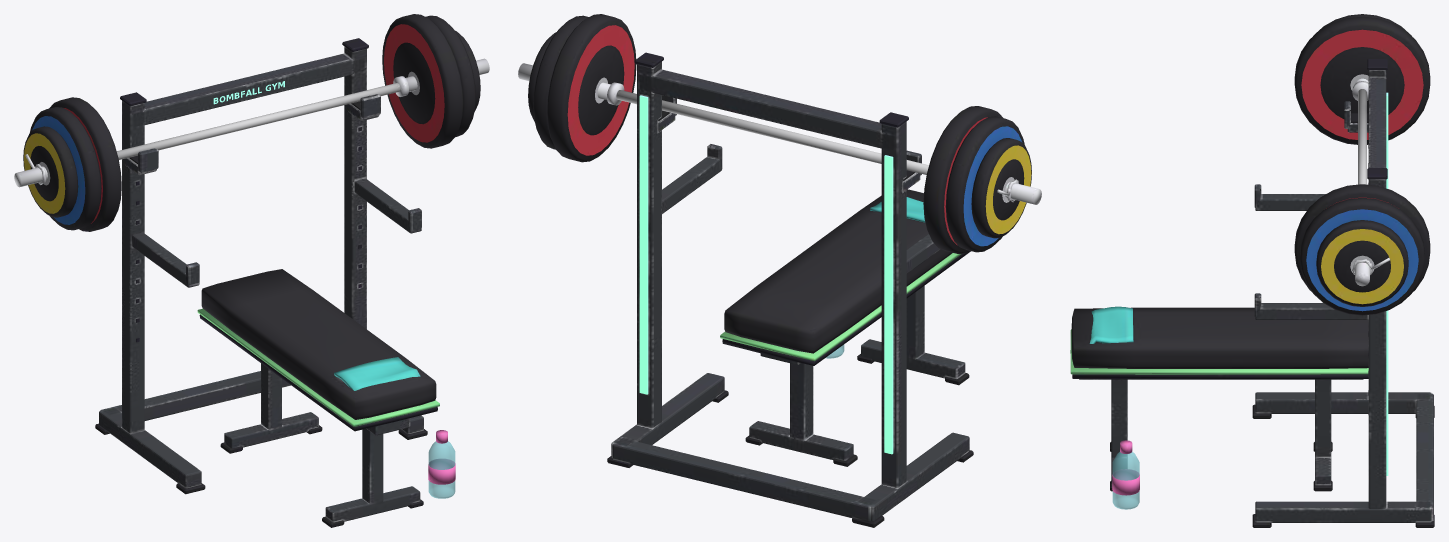
File: bench_press.glb
3 views of the same model, side by side, from view 1: azimuth 30°, elevation 25°; view 2: azimuth 150°, elevation 25°; view 3: azimuth 270°, elevation 25° (orthographic). The views are drawn at different scales.
Visible parts, largest first — view 1: body; view 2: body; view 3: body.
Boxes of the visible parts, bbox=[...] form: body: bbox=[14, 14, 489, 527]; body: bbox=[518, 14, 1041, 527]; body: bbox=[1070, 14, 1434, 527].
Bounding box in the file's own units: 4 × 2.97 × 2.68.
4 materials, 1 textured.
